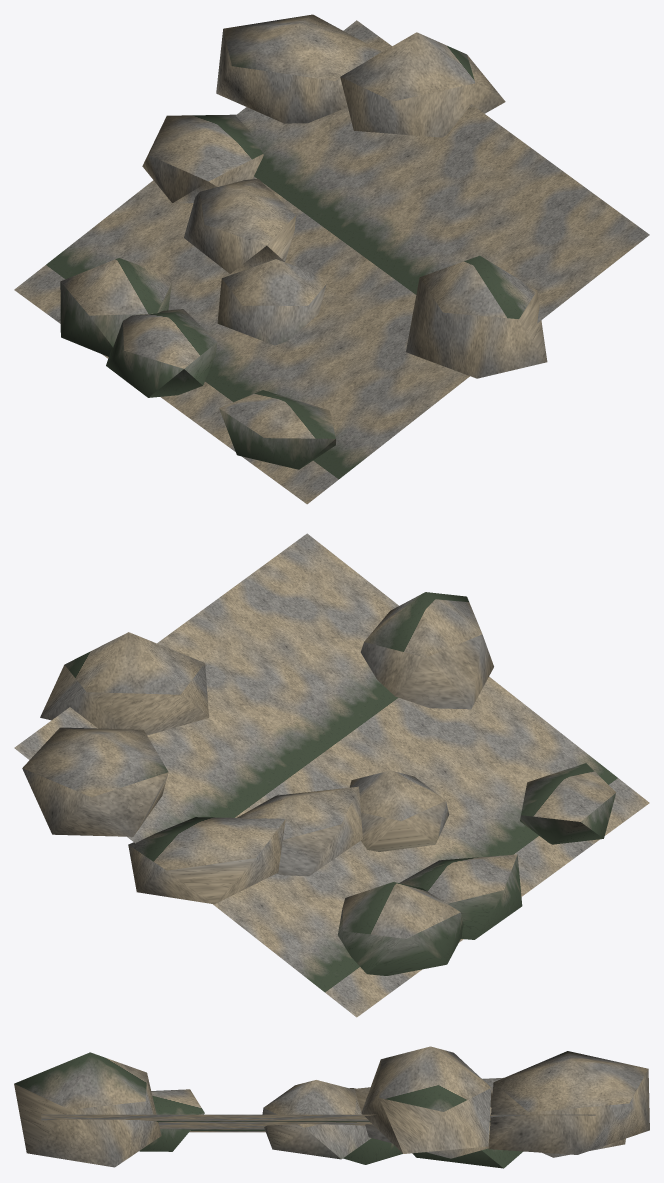
File: SM_Molo_Scogliera_C_LOD2.fbx
3 renders of one model, top to bottom at view 1: azimuth 30°, elevation 25°; view 2: azimuth 150°, elevation 25°; view 3: azimuth 270°, elevation 25°, orthographic. The views are drawn at different scales.
Parts seen in each view (by area): view 1: SM_Molo_Scogliera_C_LOD2; view 2: SM_Molo_Scogliera_C_LOD2; view 3: SM_Molo_Scogliera_C_LOD2.
Part boxes in pixels (box(x1,y1,x2,y2)): SM_Molo_Scogliera_C_LOD2: box(14, 14, 649, 504); SM_Molo_Scogliera_C_LOD2: box(14, 533, 649, 1017); SM_Molo_Scogliera_C_LOD2: box(14, 1046, 649, 1168).
Bounding box in the file's own units: 649 × 918 × 368.
1 material, 1 textured.
